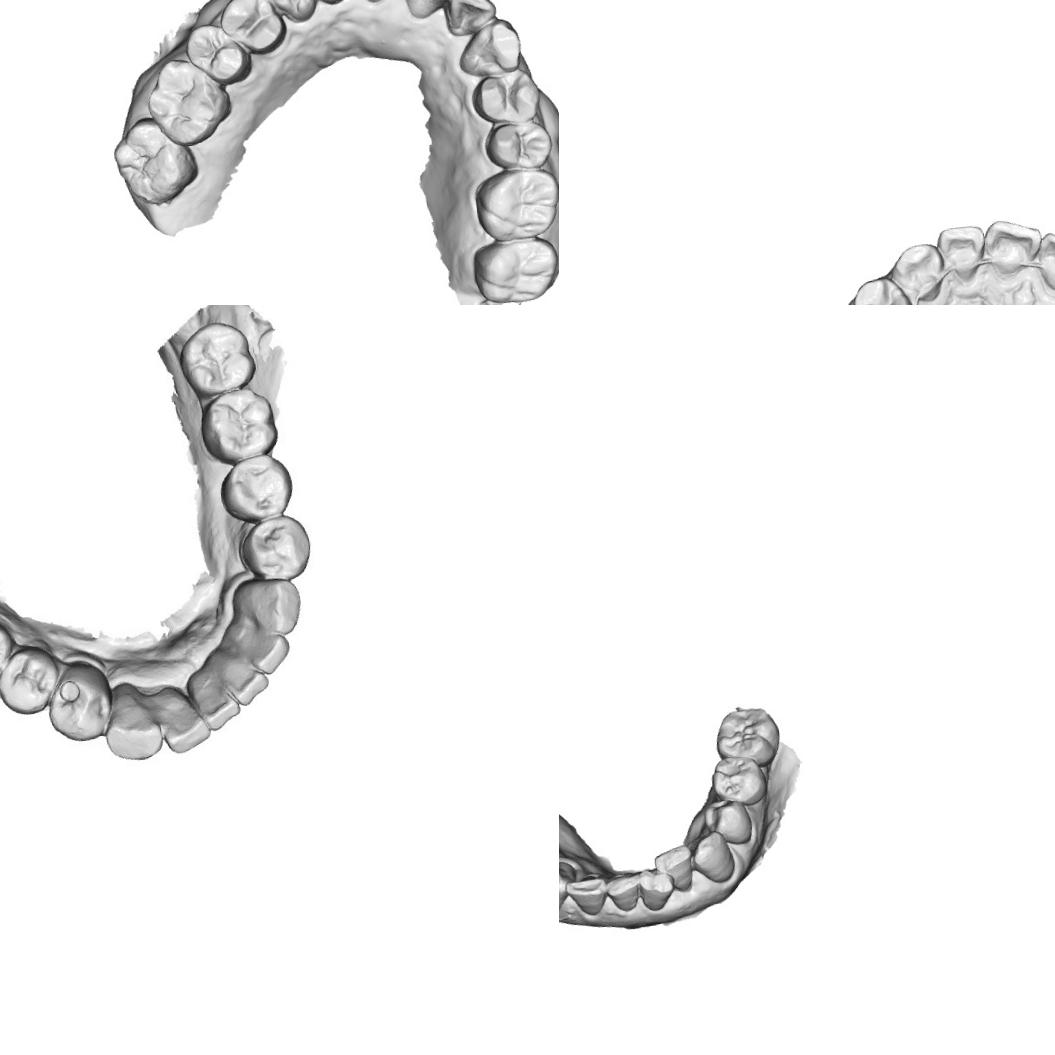canine: (97, 676, 166, 765), (232, 572, 307, 640), (453, 15, 525, 80), (888, 240, 947, 305), (688, 828, 737, 886), (259, 0, 323, 27), (559, 857, 580, 913)
incisor: (980, 214, 1046, 282), (156, 684, 212, 753), (189, 666, 244, 735), (216, 645, 272, 709), (934, 222, 990, 284), (234, 620, 290, 678), (652, 842, 697, 897), (440, 0, 500, 38), (563, 874, 610, 918), (636, 865, 678, 913), (604, 873, 641, 914), (394, 0, 464, 21), (1035, 226, 1055, 297)
molar: (109, 110, 203, 212), (142, 52, 236, 150), (470, 163, 559, 245), (196, 384, 282, 468), (175, 316, 258, 398), (468, 233, 559, 305), (711, 705, 783, 772)
premolar: (42, 656, 115, 748), (232, 510, 317, 586), (214, 452, 297, 525), (182, 19, 254, 89), (467, 65, 544, 128), (0, 643, 61, 719), (216, 0, 292, 60), (481, 115, 556, 174), (708, 753, 770, 810), (700, 796, 755, 849), (848, 270, 922, 305)
